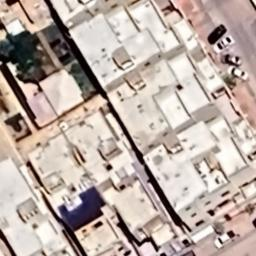pickup: (214, 229, 236, 250)
sedan: (206, 22, 228, 46), (211, 34, 236, 54), (220, 52, 244, 68), (227, 66, 250, 82)
